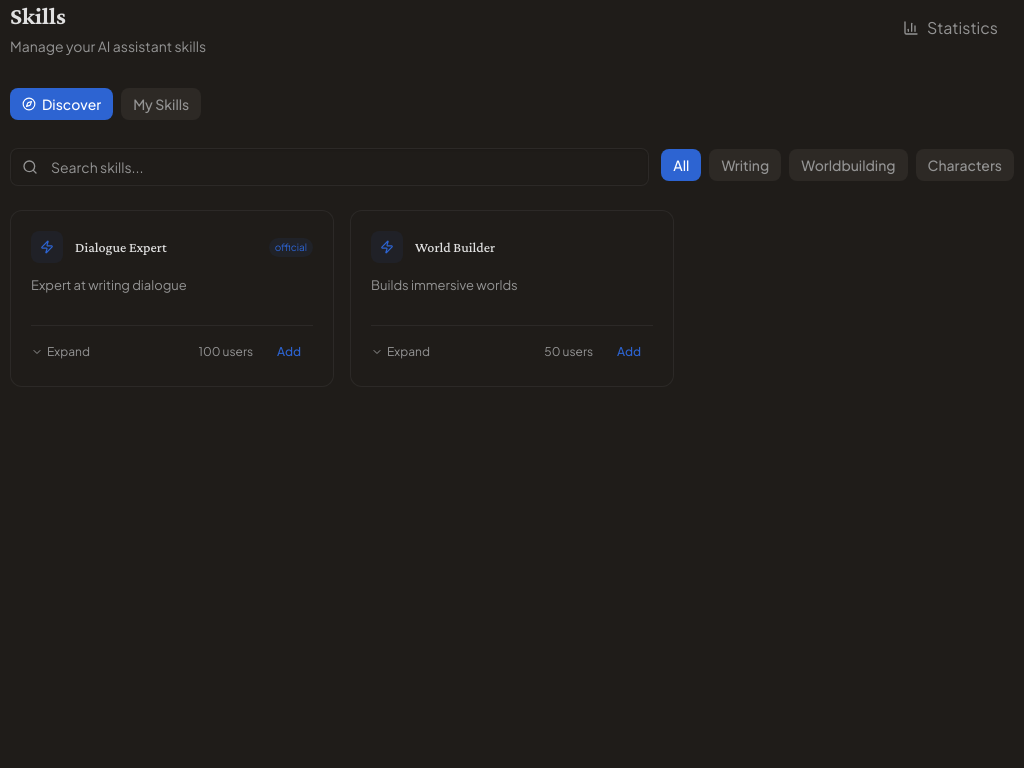
SkillsPage › My Skills Tab › should open create skill modal
// Switch to my skills tab
Click the button "My Skills" at (161, 104), box [121, 88, 201, 120]
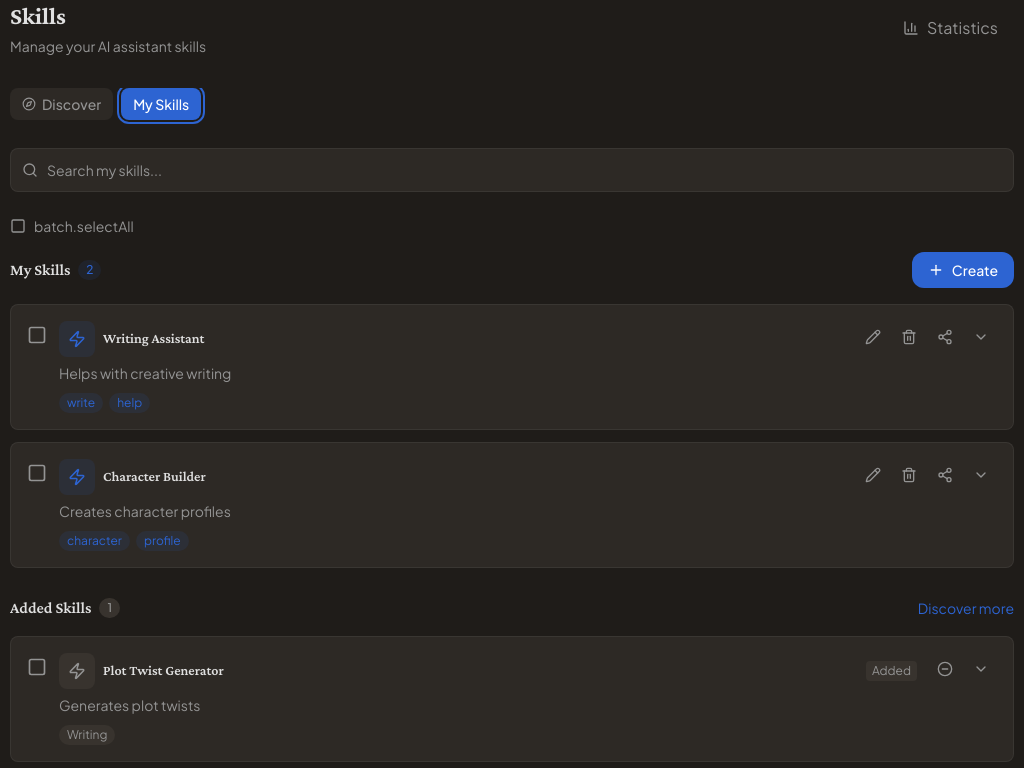
Now the heading "Writing Assistant" is shown, box [103, 330, 204, 346]
// Click create button
Click the button "Create" at (963, 270), box [912, 252, 1014, 288]
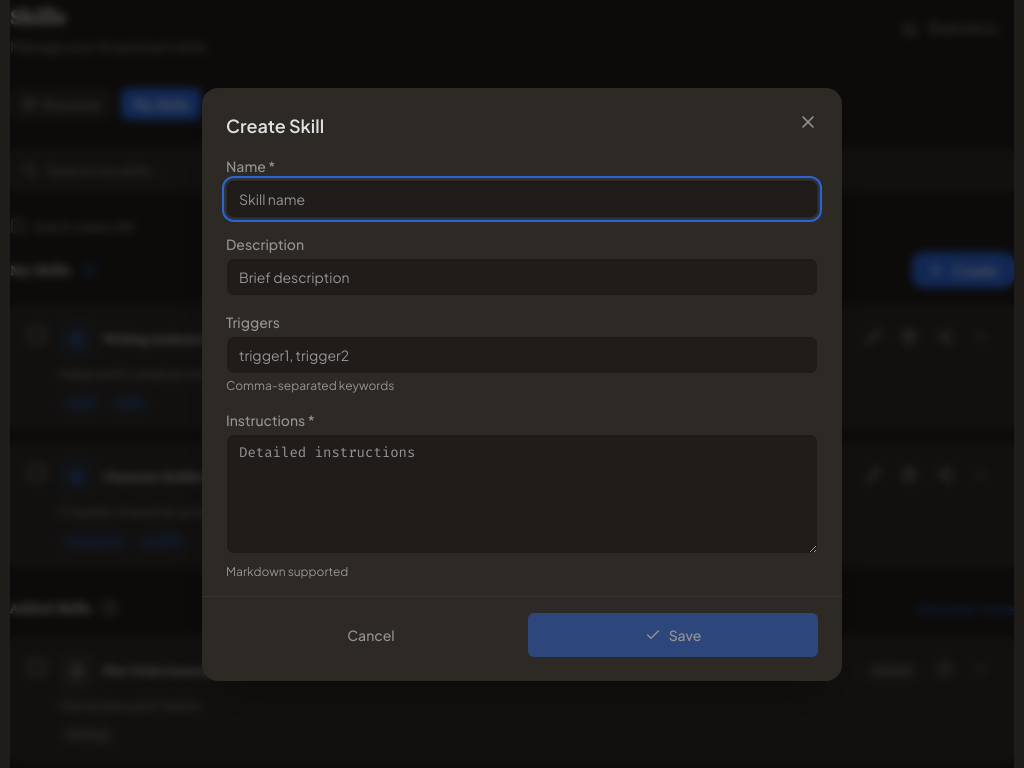
Now the text "Create Skill" is shown, box [226, 112, 324, 140]
